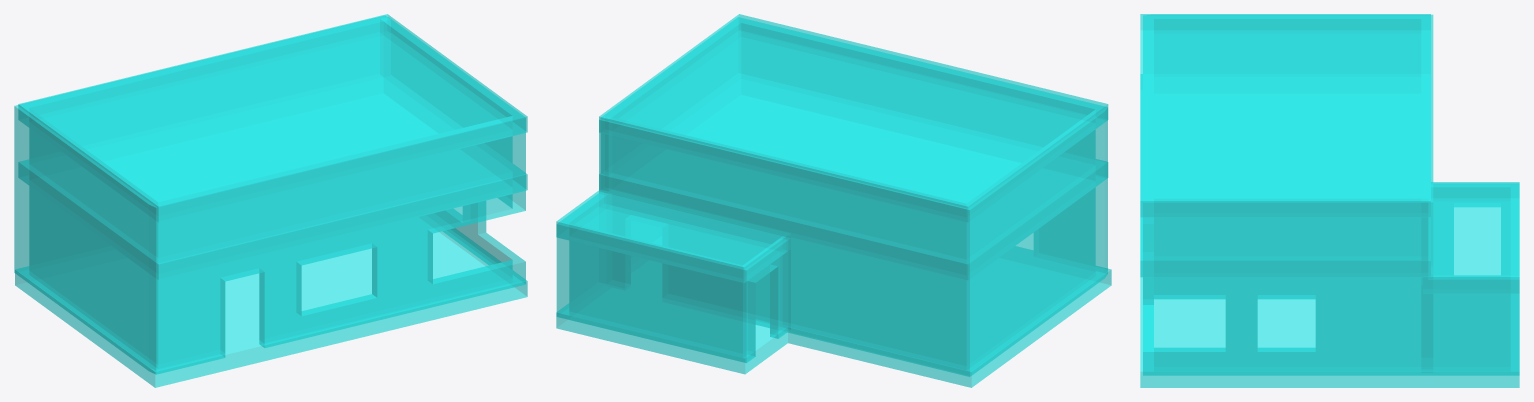
Rendered from SM_Bld_Gas_Station_01_Collision.fbx.
3 views of the same model, side by side, from view 1: azimuth 30°, elevation 25°; view 2: azimuth 150°, elevation 25°; view 3: azimuth 270°, elevation 25° (orthographic). The views are drawn at different scales.
Visible parts, largest first — view 1: SM_Bld_Gas_Station_01_Collision; view 2: SM_Bld_Gas_Station_01_Collision; view 3: SM_Bld_Gas_Station_01_Collision.
Part boxes in pixels (x1,y1,x2,y2): SM_Bld_Gas_Station_01_Collision: [14, 14, 527, 387]; SM_Bld_Gas_Station_01_Collision: [556, 14, 1111, 387]; SM_Bld_Gas_Station_01_Collision: [1140, 14, 1519, 387].
Bounding box in the file's own units: 1056 × 489 × 899.
